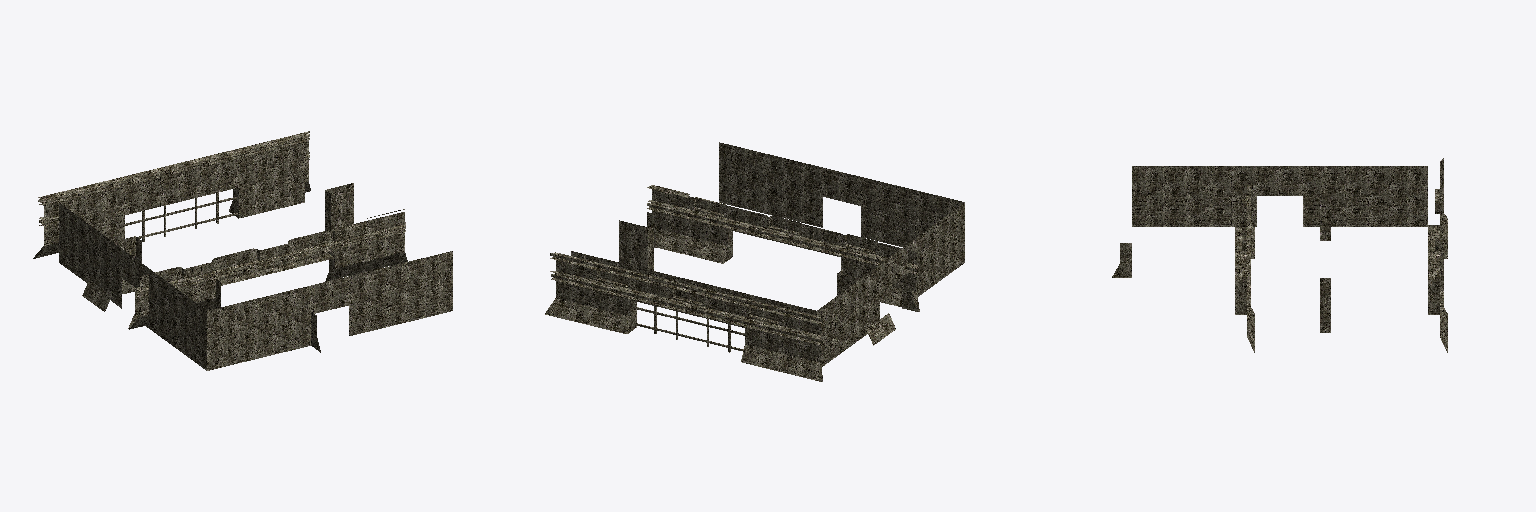
3 renders of one model, left to right at view 1: azimuth 30°, elevation 25°; view 2: azimuth 150°, elevation 25°; view 3: azimuth 270°, elevation 25°, orthographic.
Parts seen in each view (by area): view 1: inside_wall, insidewall2, outsidewall_Detached, outsidewall_Detached.001, backtop, insidedetail, pillars, backwindow; view 2: inside_wall, insidewall2, outsidewall_Detached.001, outsidewall_Detached, backtop, pillars, insidedetail, backwindow, doorways; view 3: inside_wall, outsidewall_Detached.001, pillars, insidedetail, insidewall2, backtop.
Part boxes in pixels (bbox=[...]): inside_wall: bbox=[59, 203, 452, 370]; insidewall2: bbox=[129, 209, 407, 329]; outsidewall_Detached: bbox=[44, 138, 309, 241]; outsidewall_Detached.001: bbox=[33, 152, 310, 258]; backtop: bbox=[38, 131, 309, 205]; insidedetail: bbox=[182, 223, 365, 308]; pillars: bbox=[114, 183, 353, 293]; backwindow: bbox=[125, 193, 237, 241]; inside_wall: bbox=[719, 142, 964, 367]; insidewall2: bbox=[647, 185, 919, 311]; outsidewall_Detached.001: bbox=[545, 271, 822, 381]; outsidewall_Detached: bbox=[550, 251, 820, 334]; backtop: bbox=[550, 252, 821, 324]; pillars: bbox=[619, 220, 859, 295]; insidedetail: bbox=[694, 197, 877, 262]; backwindow: bbox=[635, 306, 744, 352]; doorways: bbox=[647, 212, 918, 311]; inside_wall: bbox=[1132, 166, 1427, 226]; outsidewall_Detached.001: bbox=[1428, 214, 1447, 352]; pillars: bbox=[1320, 186, 1330, 332]; insidedetail: bbox=[1235, 189, 1254, 314]; insidewall2: bbox=[1242, 185, 1254, 352]; backtop: bbox=[1435, 158, 1443, 294].
Bounding box in the file's own units: 16.96 × 3.69 × 17.7.
Materials: 1 (1 with a texture image).